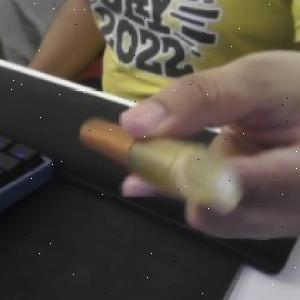Golden-E-Ciggirate: (80, 116, 245, 225)
